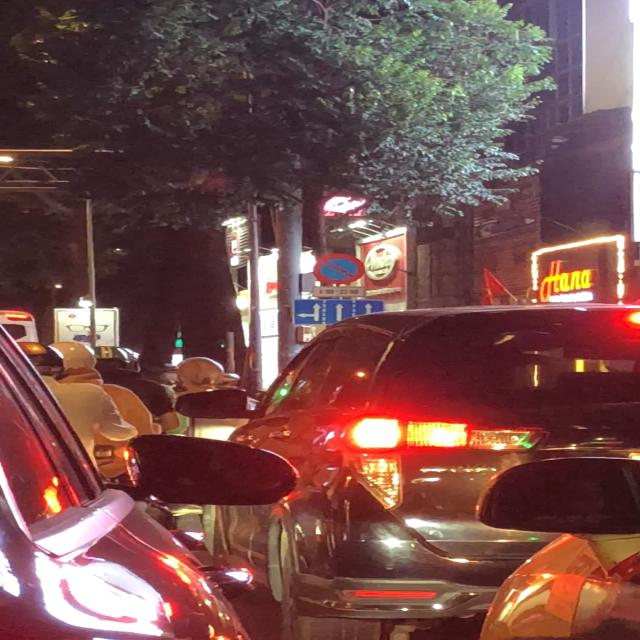Bien bao cam do xe: (307, 251, 370, 286)
